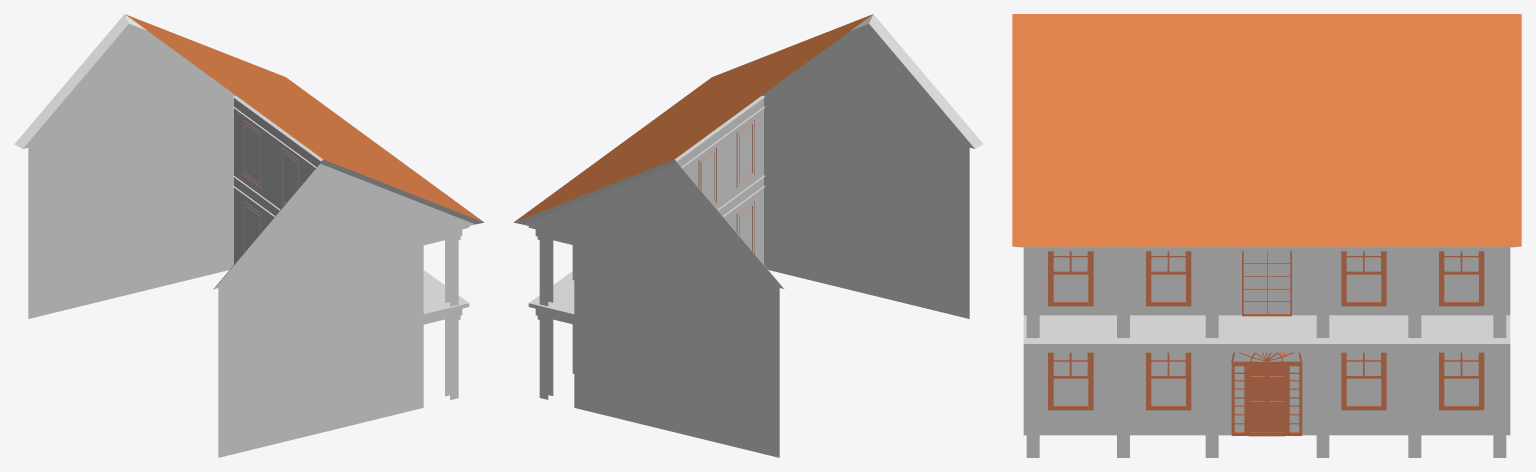
The model's file is Runner_House4.fbx.
The picture shows the model from 3 angles, left to right: view 1: azimuth 30°, elevation 25°; view 2: azimuth 150°, elevation 25°; view 3: azimuth 270°, elevation 25°; orthographic projection. The views are drawn at different scales.
Parts seen in each view (by area): view 1: Runner_House 3; view 2: Runner_House 3; view 3: Runner_House 3.
Boxes of the visible parts, bbox=[...] form: Runner_House 3: bbox=[14, 14, 484, 457]; Runner_House 3: bbox=[513, 14, 983, 457]; Runner_House 3: bbox=[1012, 14, 1521, 457].
Bounding box in the file's own units: 2644 × 2580 × 3350.
